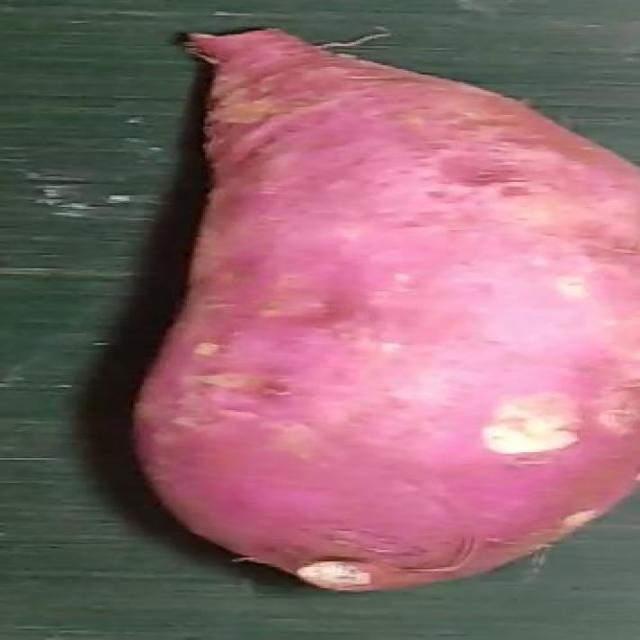Sweet Potato: (133, 30, 631, 592)
